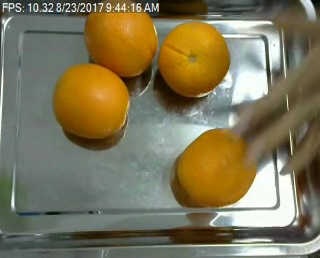Orange: (174, 127, 257, 206), (52, 62, 130, 139), (157, 19, 230, 98), (84, 1, 157, 79)
